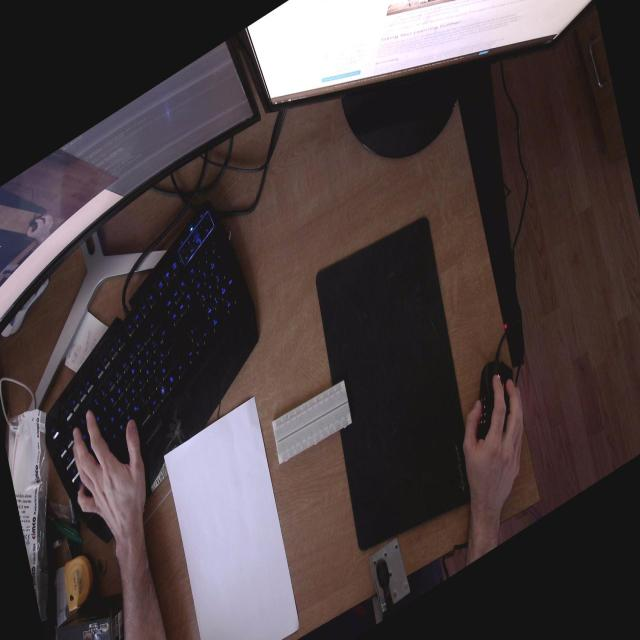keyboard-with-hands: (36, 193, 265, 558)
